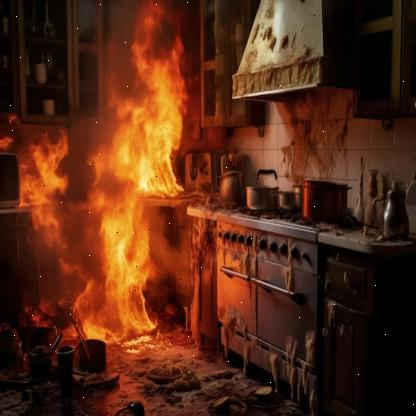fire: (4, 0, 186, 349)
smoke: (71, 0, 135, 162)
